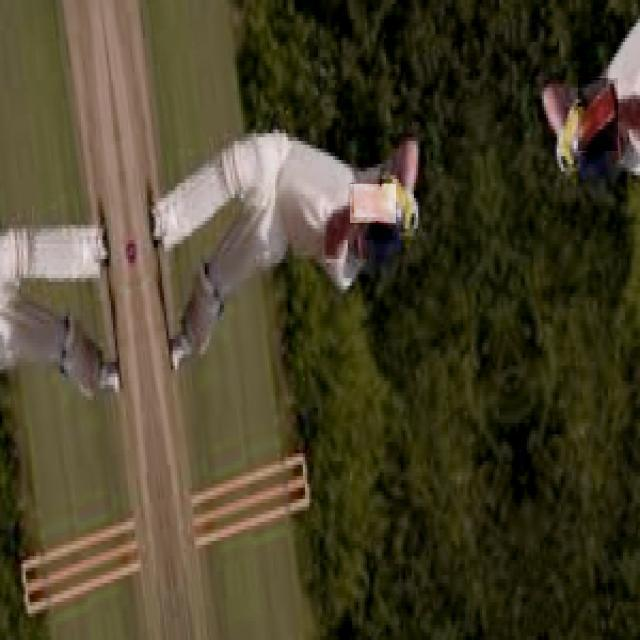bat: (347, 183, 395, 229)
toe: (345, 184, 359, 224)
